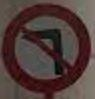Cam re: (2, 6, 91, 89)
